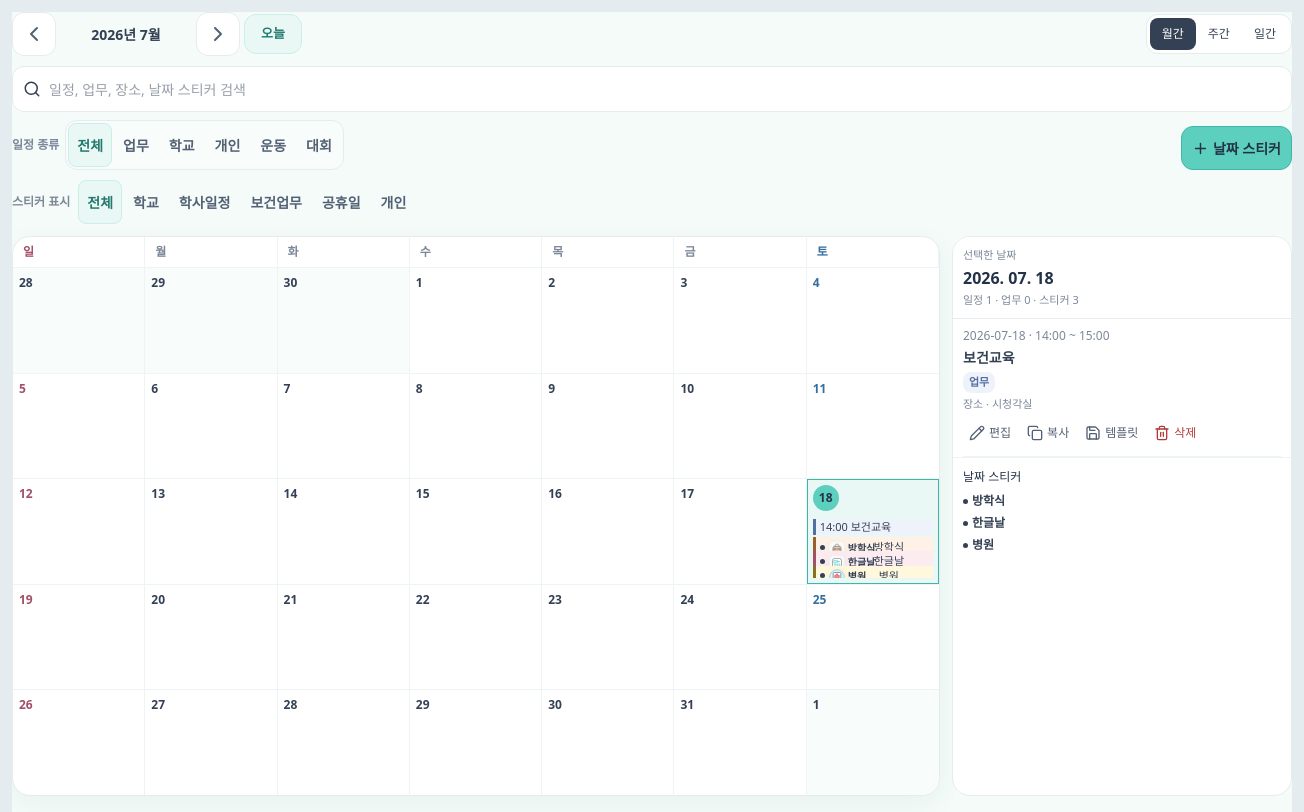
Test: CalendarWorkspace › keeps entry and sticker filter state independent
Click the button "업무".
click(136, 145)  # box [114,123,158,167]
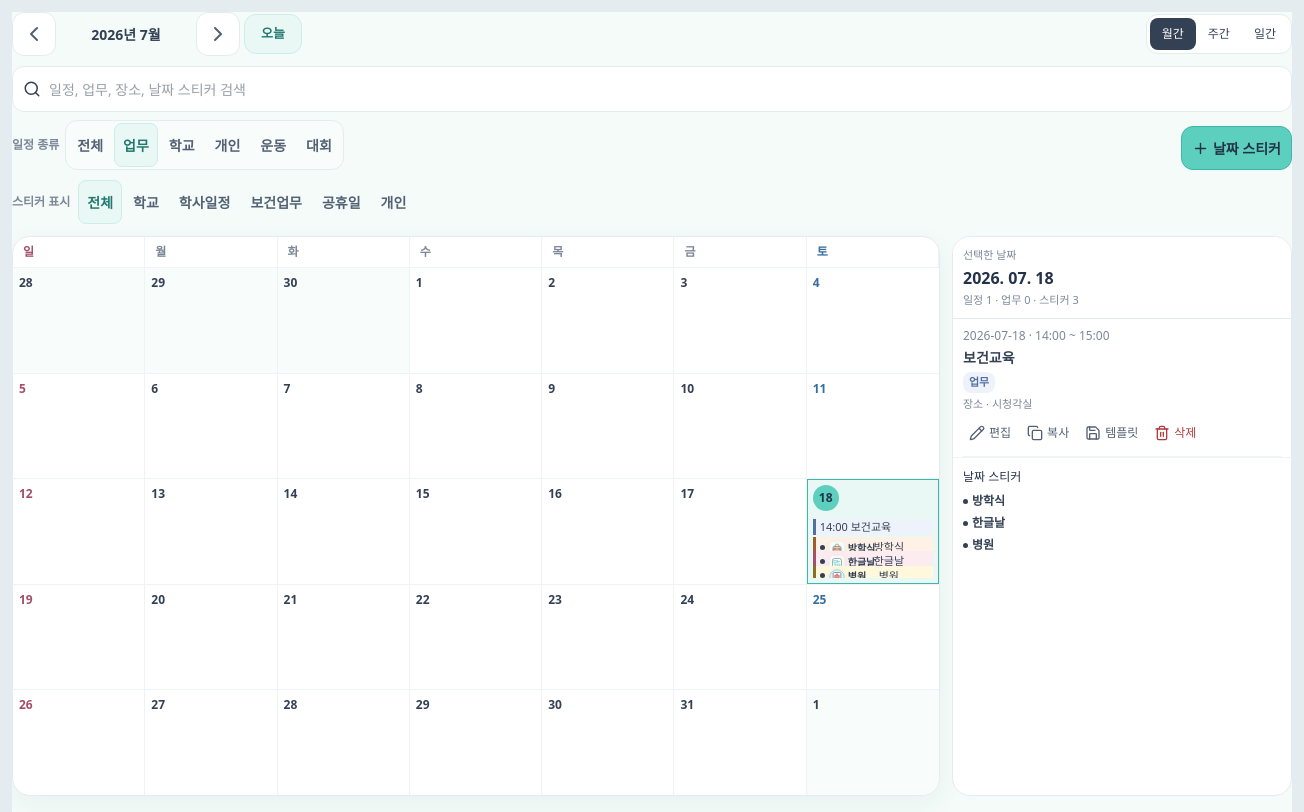
Click the button "개인" in the row of "스티커 표시".
click(394, 202)  # box [372,180,415,224]
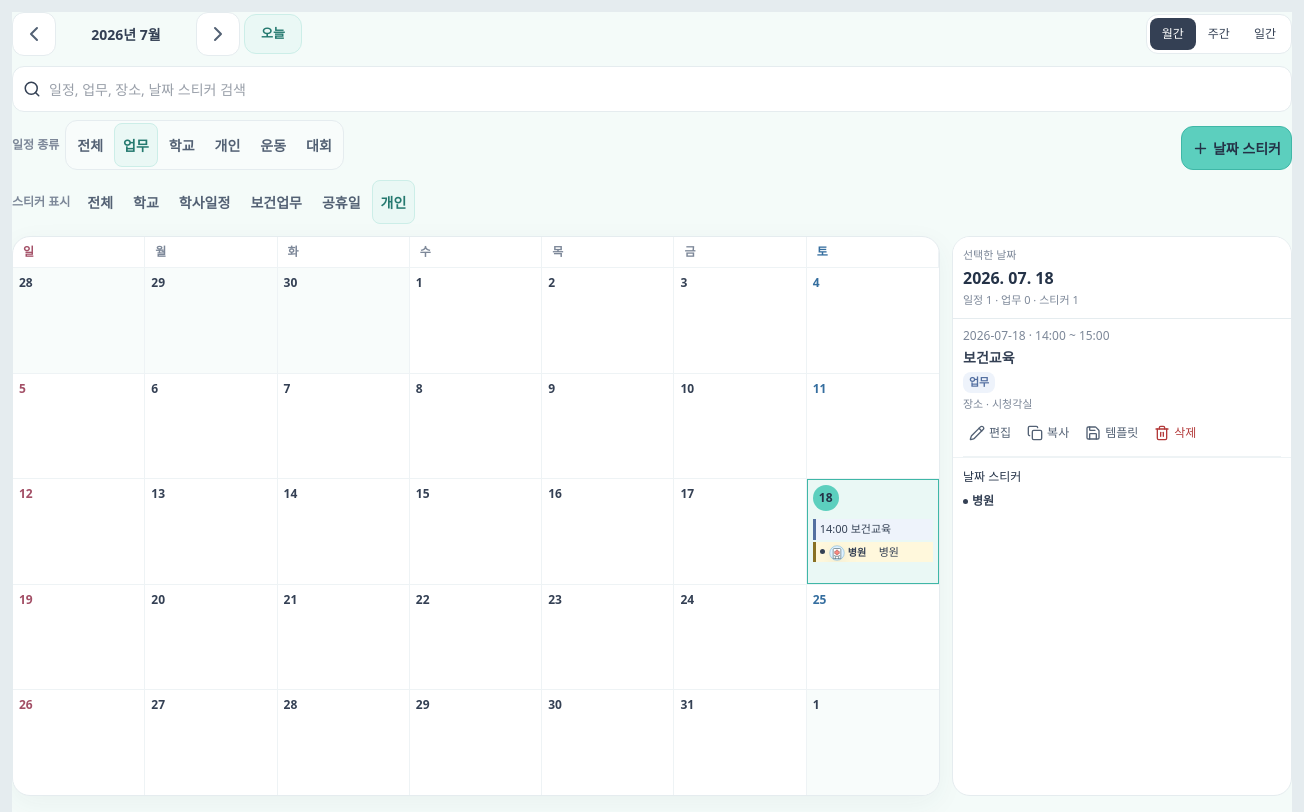
Check: the cell named "2026-07-18" shows "병원", box [813,542,933,562]
Check: the cell named "2026-07-18" no longer shows "방학식", box [807,478,939,584]
Check: the cell named "2026-07-18" no longer shows "한글날", box [807,478,939,584]
